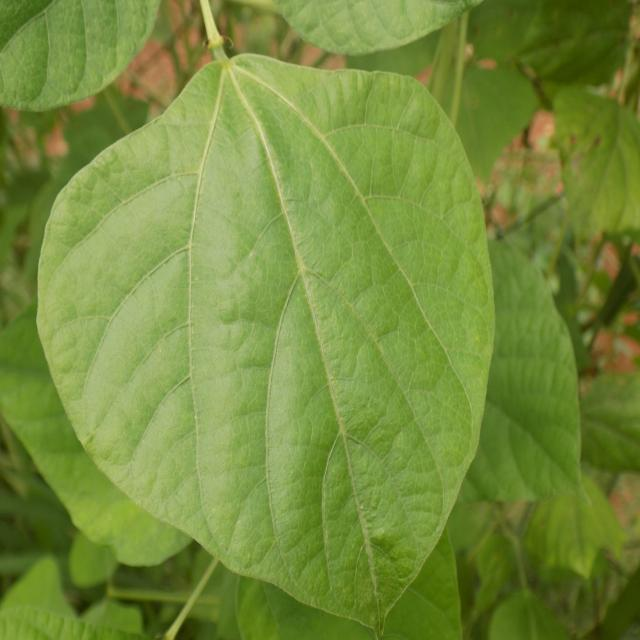Dolicos bean_healthy: (30, 52, 500, 633), (368, 240, 588, 500)
